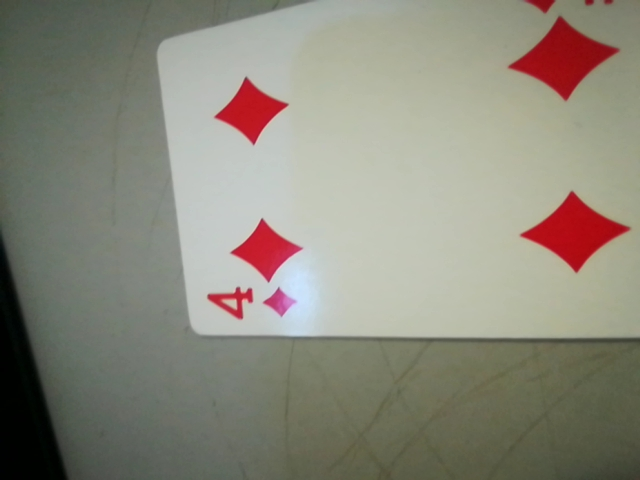fk 4: (200, 259, 317, 330)
